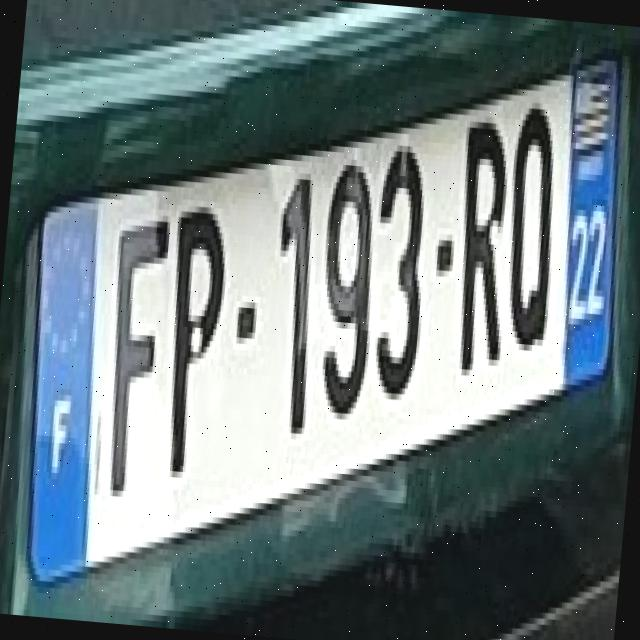EU: (30, 62, 618, 590)
France: (29, 200, 98, 586)
